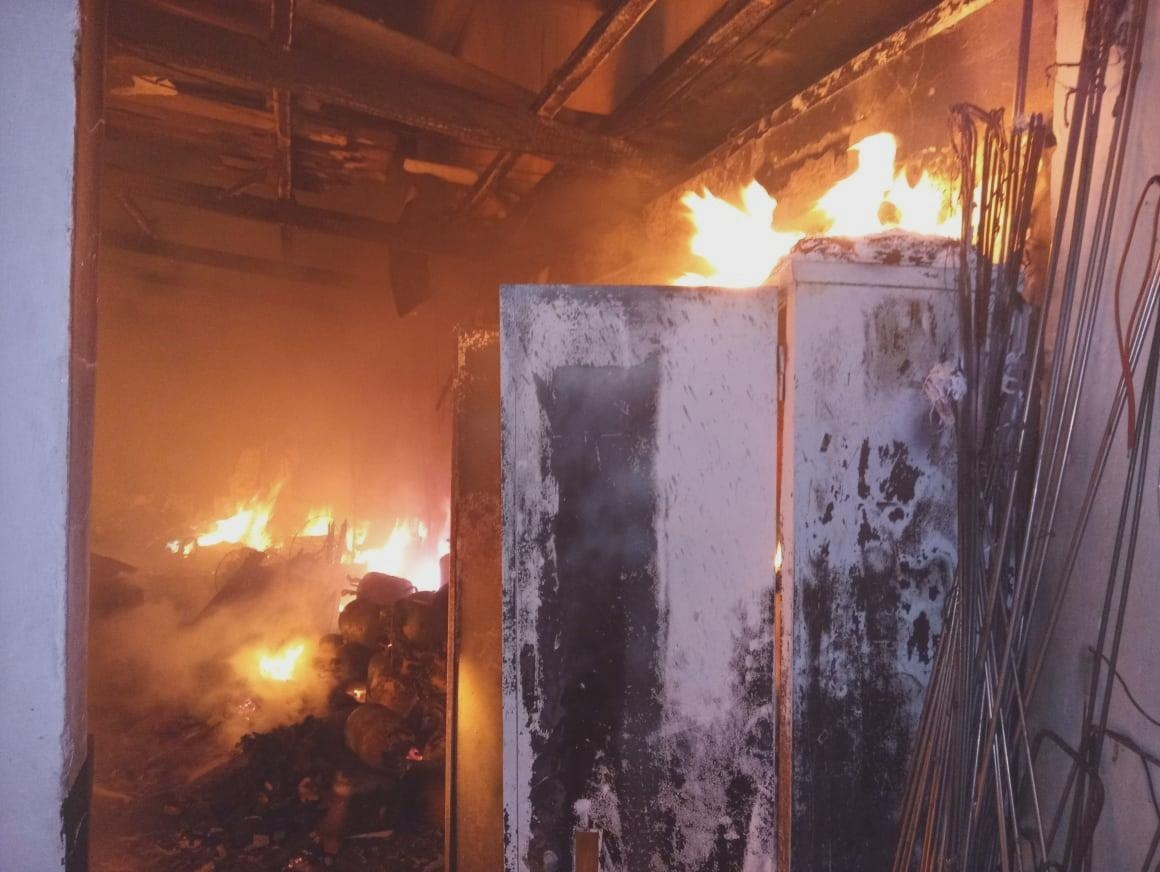fire: (160, 443, 470, 724), (660, 148, 988, 314)
